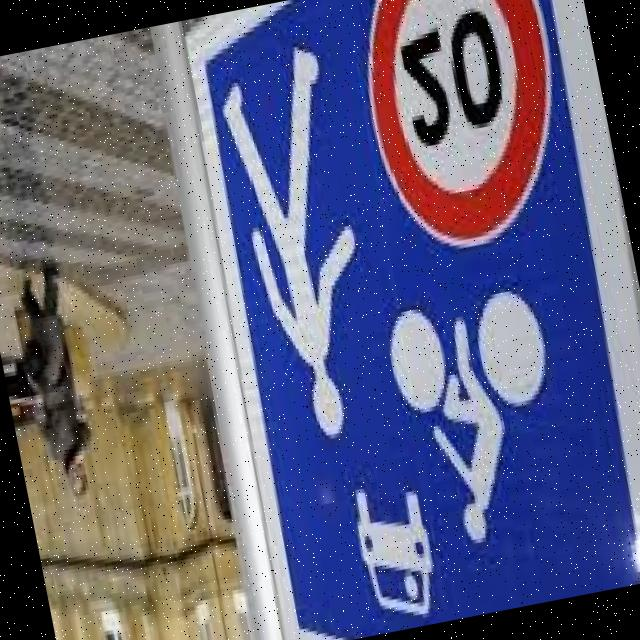speed_limit_20: (343, 0, 592, 269)
